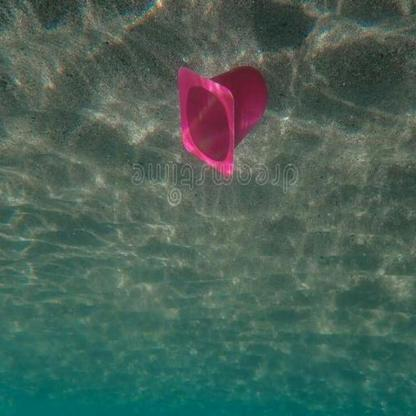plastic bottle: (174, 66, 269, 176)
